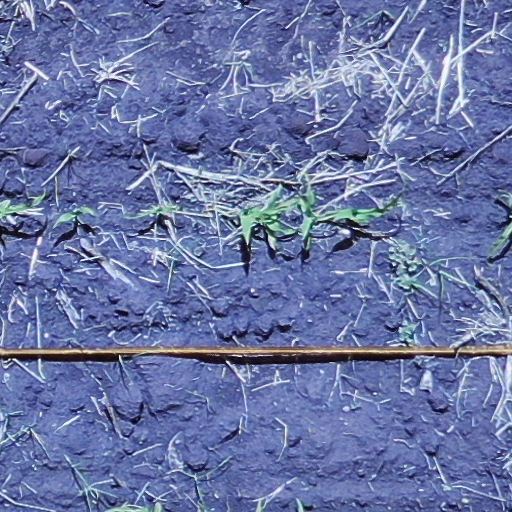planta: (238, 185, 297, 250), (318, 197, 398, 226), (298, 189, 317, 245), (124, 205, 181, 219), (55, 205, 95, 223)
